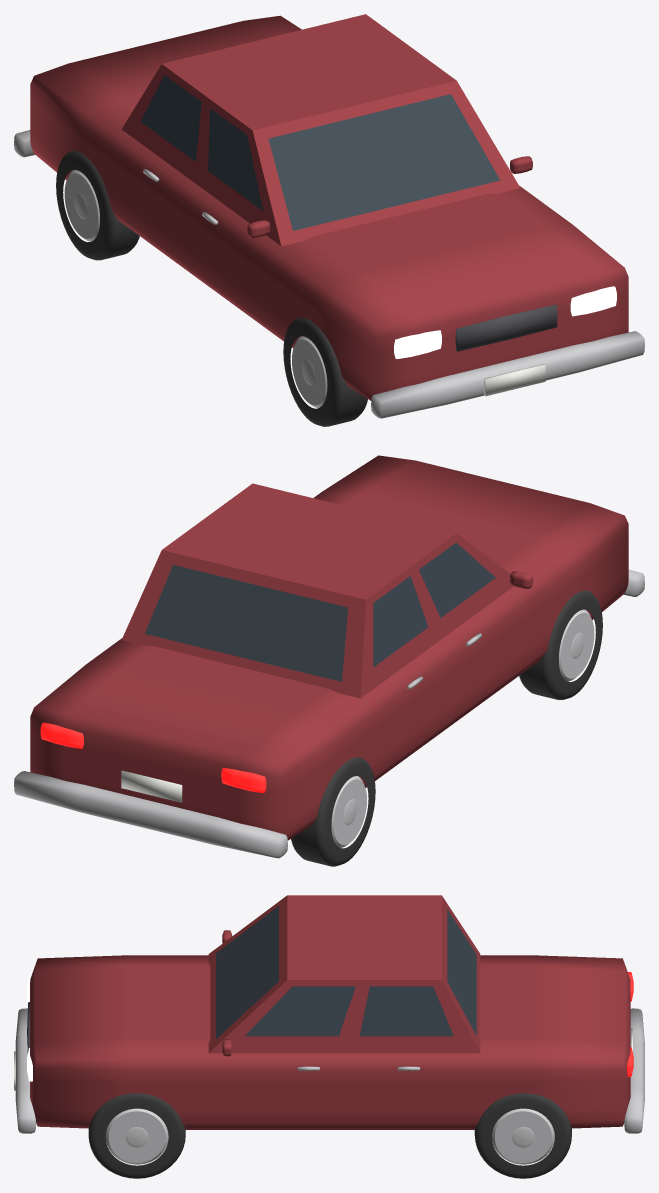
The model's file is car.glb.
3 renders of one model, top to bottom at view 1: azimuth 30°, elevation 25°; view 2: azimuth 150°, elevation 25°; view 3: azimuth 270°, elevation 25°, orthographic. The views are drawn at different scales.
Visible parts, largest first — view 1: Body, Wheel_FR, Wheel_RR; view 2: Body, Wheel_RR, Wheel_FR; view 3: Body, Wheel_FL, Wheel_RL.
Boxes of the visible parts, <box> form: Body: <box>14,14,644,418</box>; Wheel_FR: <box>283,317,367,426</box>; Wheel_RR: <box>56,150,139,260</box>; Body: <box>14,455,644,858</box>; Wheel_RR: <box>291,757,375,866</box>; Wheel_FR: <box>519,590,602,699</box>; Body: <box>14,895,644,1133</box>; Wheel_FL: <box>88,1093,185,1178</box>; Wheel_RL: <box>474,1093,571,1178</box>.
Bounding box in the file's own units: 1.94 × 1.45 × 4.41.
